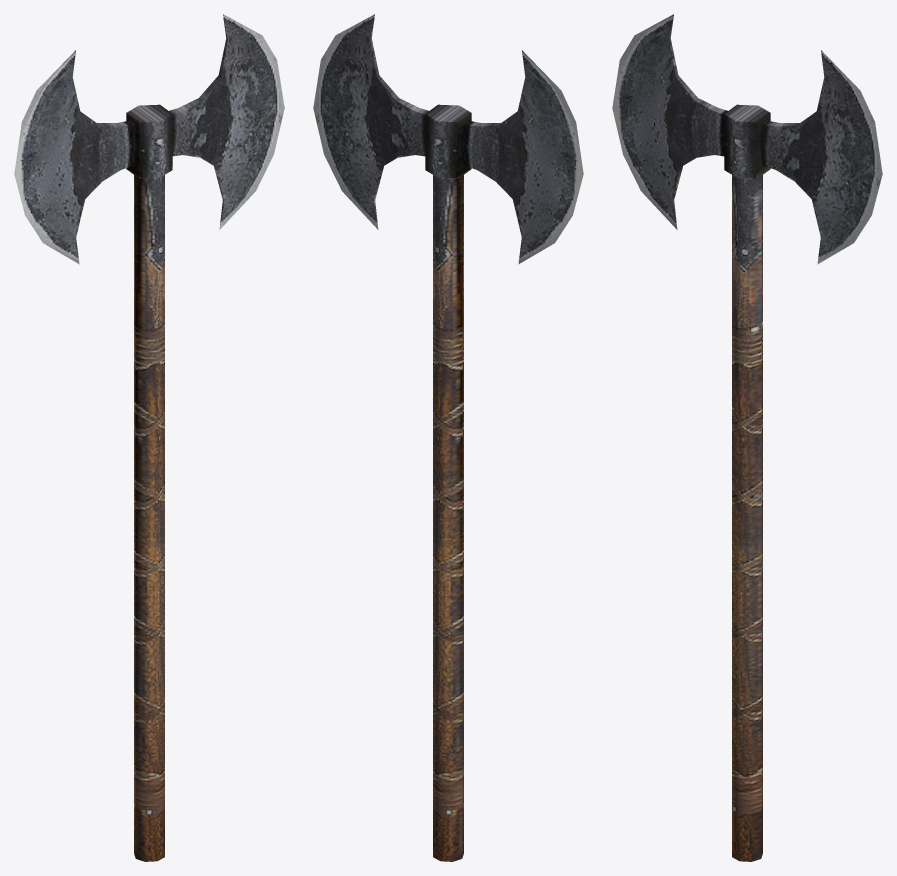
The model's file is Great Axe.fbx.
The picture shows the model from 3 angles, left to right: view 1: azimuth 30°, elevation 25°; view 2: azimuth 150°, elevation 25°; view 3: azimuth 330°, elevation 25°; orthographic projection.
Parts seen in each view (by area): view 1: Great Axe; view 2: Great Axe; view 3: Great Axe.
Boxes of the visible parts, x1,y1,x2,y2 form: Great Axe: (14,14,284,861); Great Axe: (313,14,583,861); Great Axe: (612,14,882,861).
Bounding box in the file's own units: 0.3216 × 0.9362 × 0.0449.
